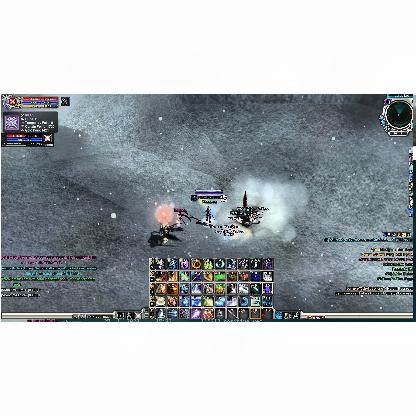caliana: (156, 214, 176, 246)
